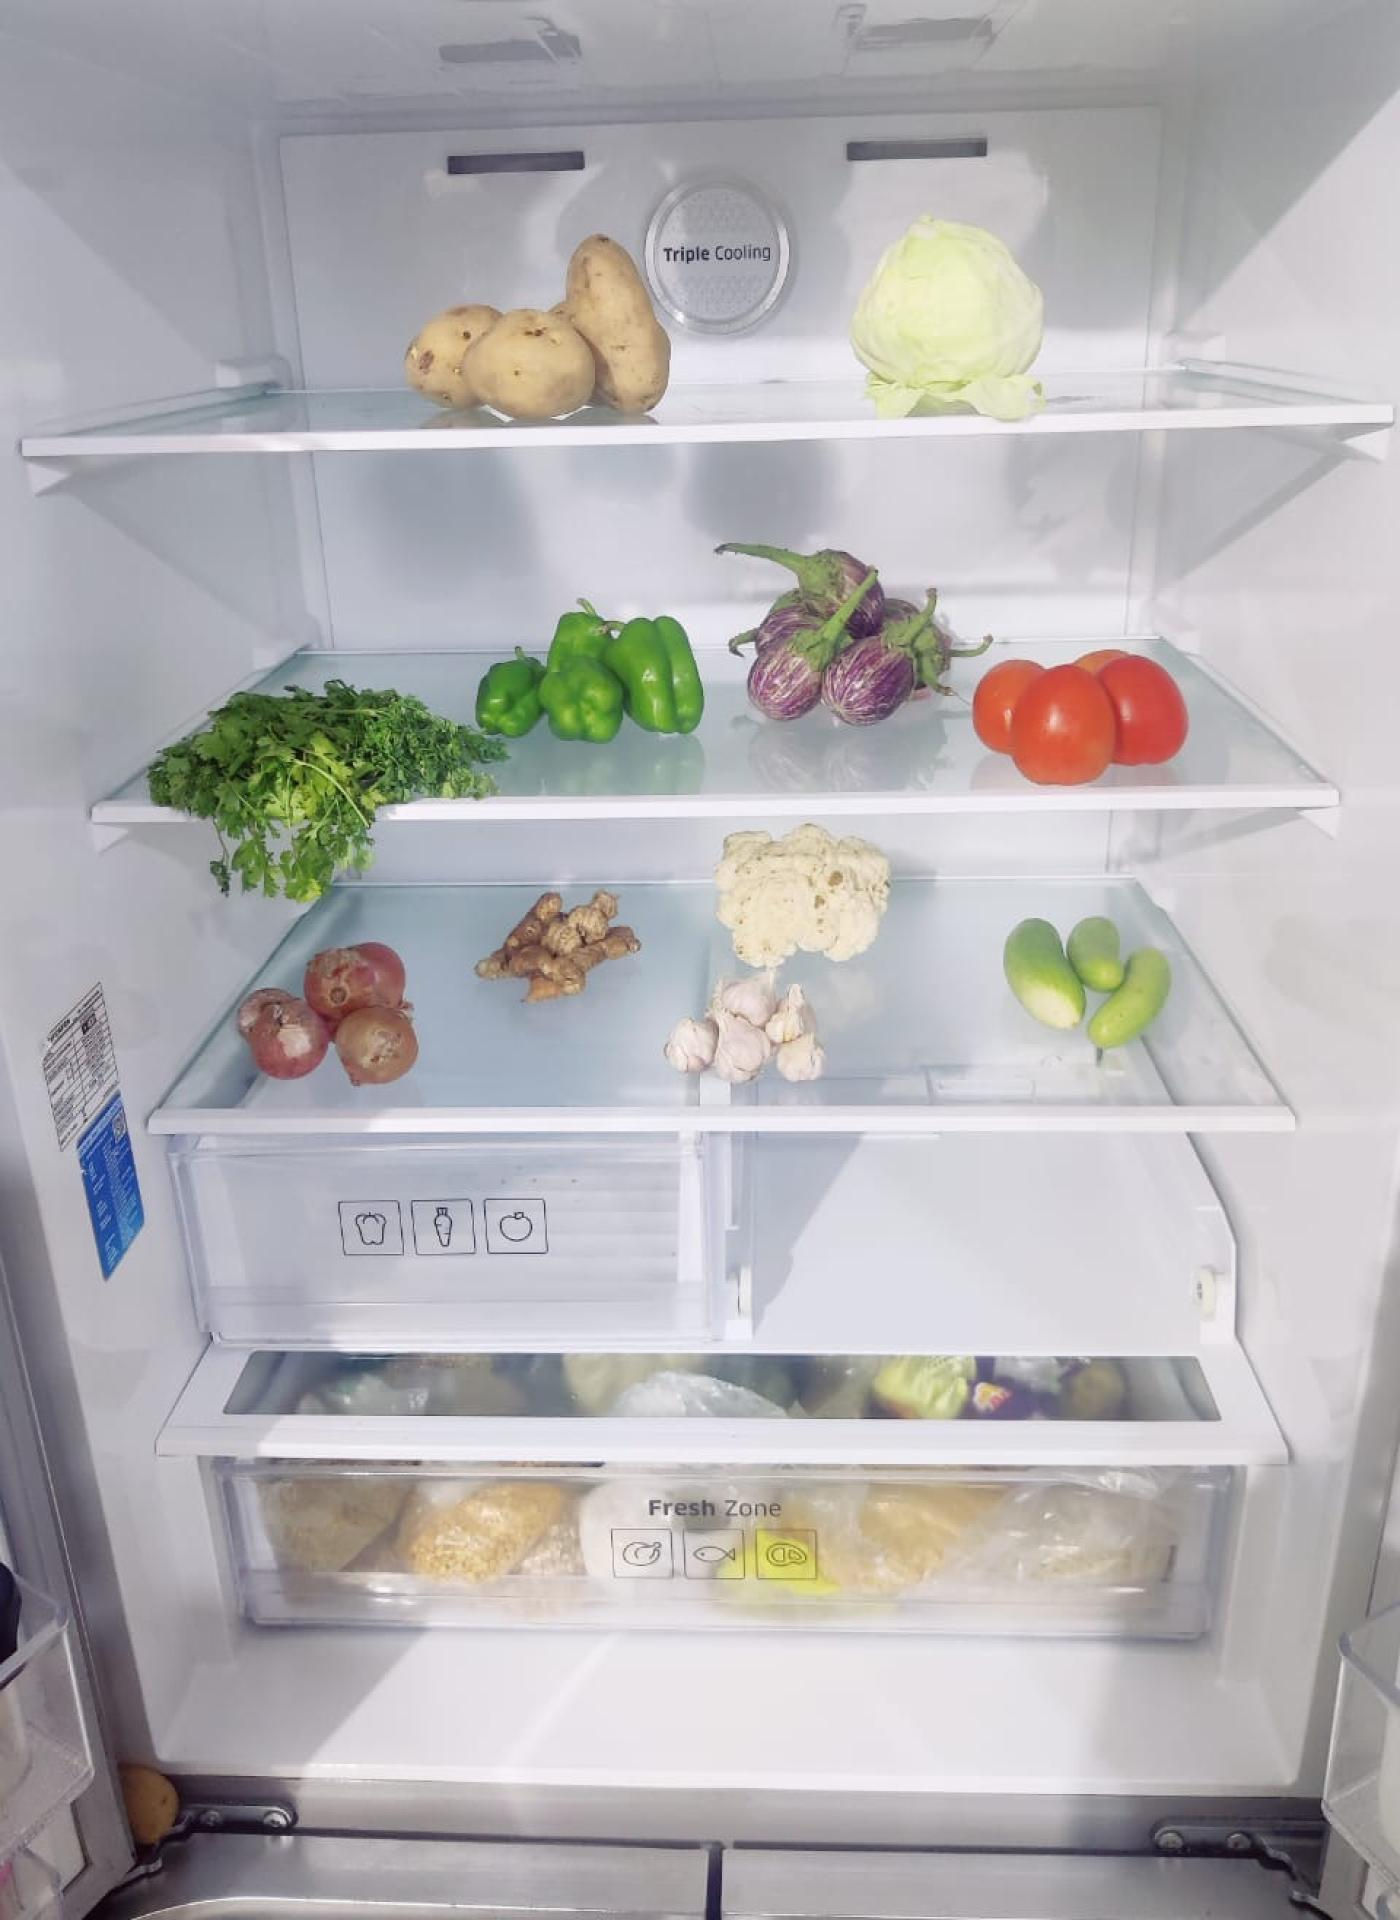brinjal: (740, 546, 950, 721)
cabbage: (847, 215, 1044, 416)
capsicum: (476, 610, 701, 742)
cauliflower: (713, 820, 893, 963)
coriander: (148, 689, 491, 881)
cucumber: (1003, 908, 1173, 1045)
garlic: (671, 975, 832, 1087)
ginger: (477, 888, 640, 1000)
onion: (242, 941, 423, 1085)
potato: (409, 243, 675, 425)
tomato: (978, 644, 1196, 781)
